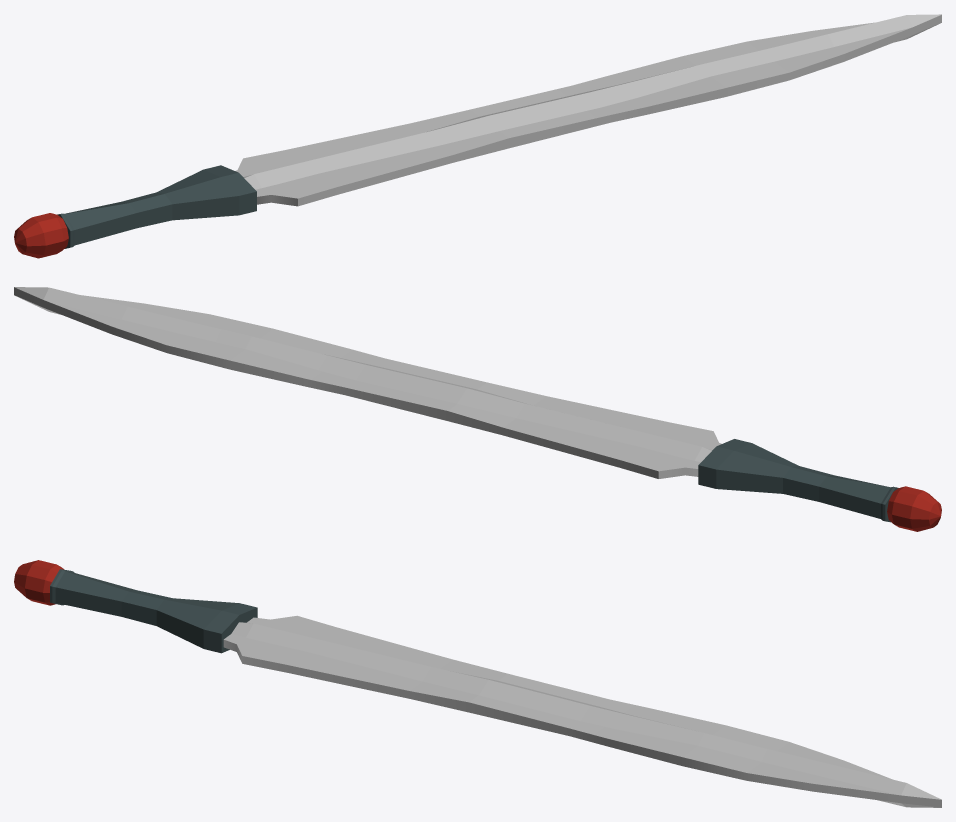
The model's file is SM_sword_legion_02.fbx.
3 renders of one model, top to bottom at view 1: azimuth 30°, elevation 25°; view 2: azimuth 150°, elevation 25°; view 3: azimuth 330°, elevation 25°, orthographic.
Parts seen in each view (by area): view 1: sword_legion_02; view 2: sword_legion_02; view 3: sword_legion_02.
Boxes of the visible parts, <box> form: sword_legion_02: <box>14,14,941,258</box>; sword_legion_02: <box>14,287,941,531</box>; sword_legion_02: <box>14,560,941,807</box>.
Bounding box in the file's own units: 121 × 4.54 × 12.39.
